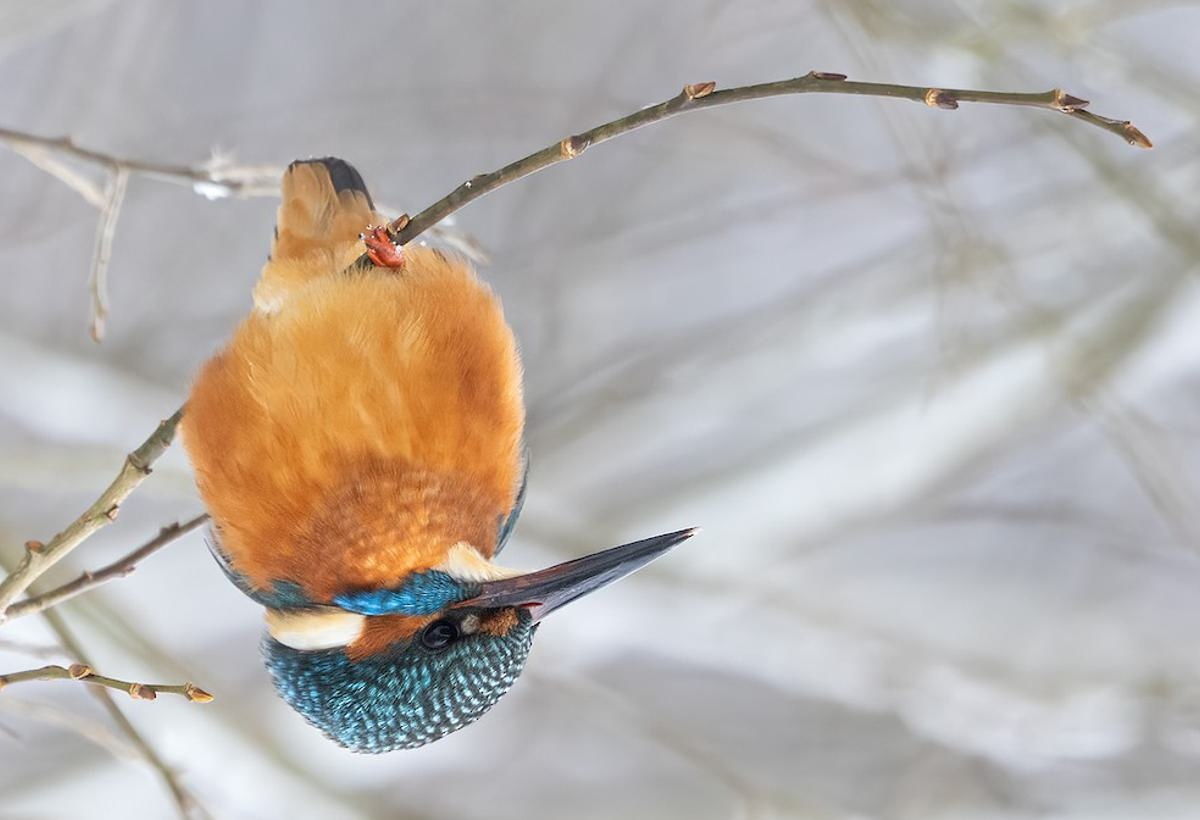kingfisher: (194, 151, 704, 757)
